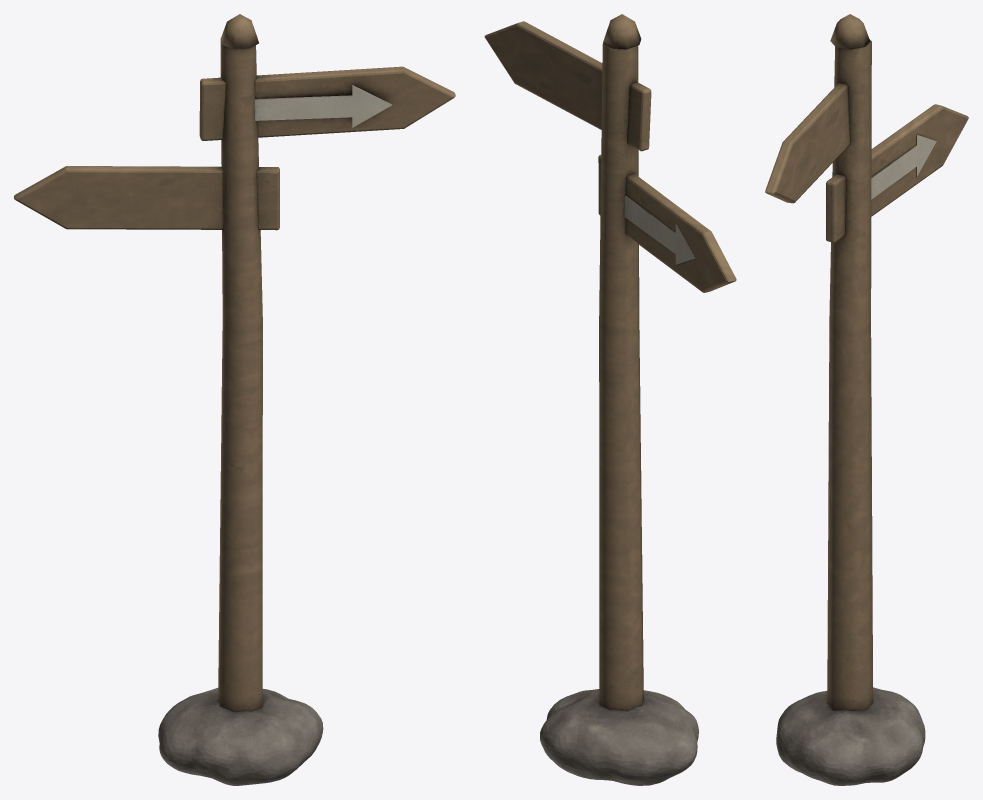
The model's file is costa_placa_seta_b.glb.
3 views of the same model, side by side, from view 1: azimuth 30°, elevation 25°; view 2: azimuth 150°, elevation 25°; view 3: azimuth 270°, elevation 25° (orthographic).
Visible parts, largest first — view 1: costa_placa_seta_b_tronco; view 2: costa_placa_seta_b_tronco; view 3: costa_placa_seta_b_tronco.
Boxes of the visible parts, x1=… form: costa_placa_seta_b_tronco: x1=14, y1=14, x2=455, y2=785; costa_placa_seta_b_tronco: x1=484, y1=14, x2=736, y2=785; costa_placa_seta_b_tronco: x1=765, y1=14, x2=968, y2=785.
Size of the model in its own units: 1.2 by 2.5 by 0.6114.
Materials: 1 (1 with a texture image).
